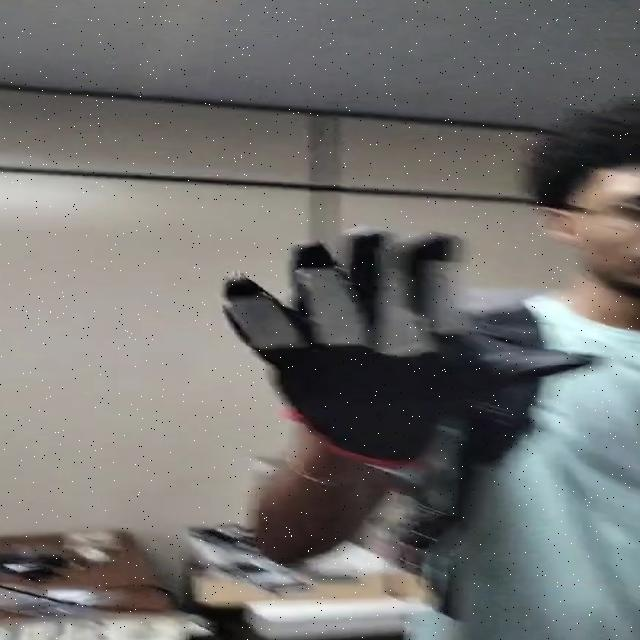Gloves: (242, 232, 591, 475)
